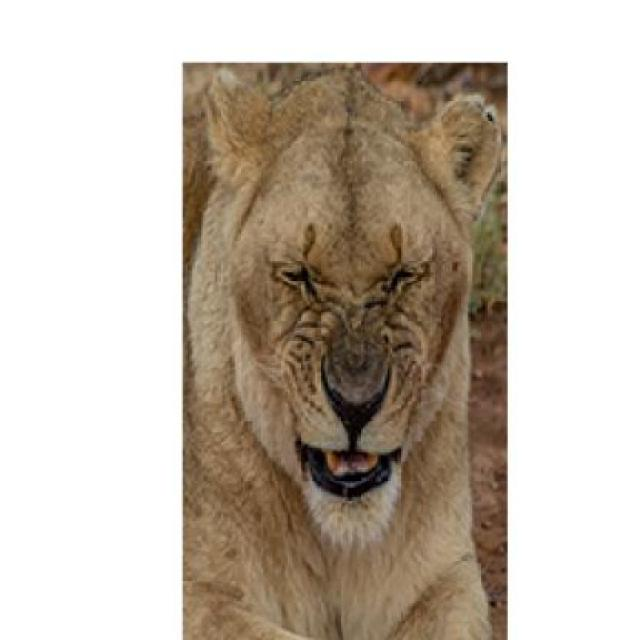Lion: (172, 51, 545, 638)
